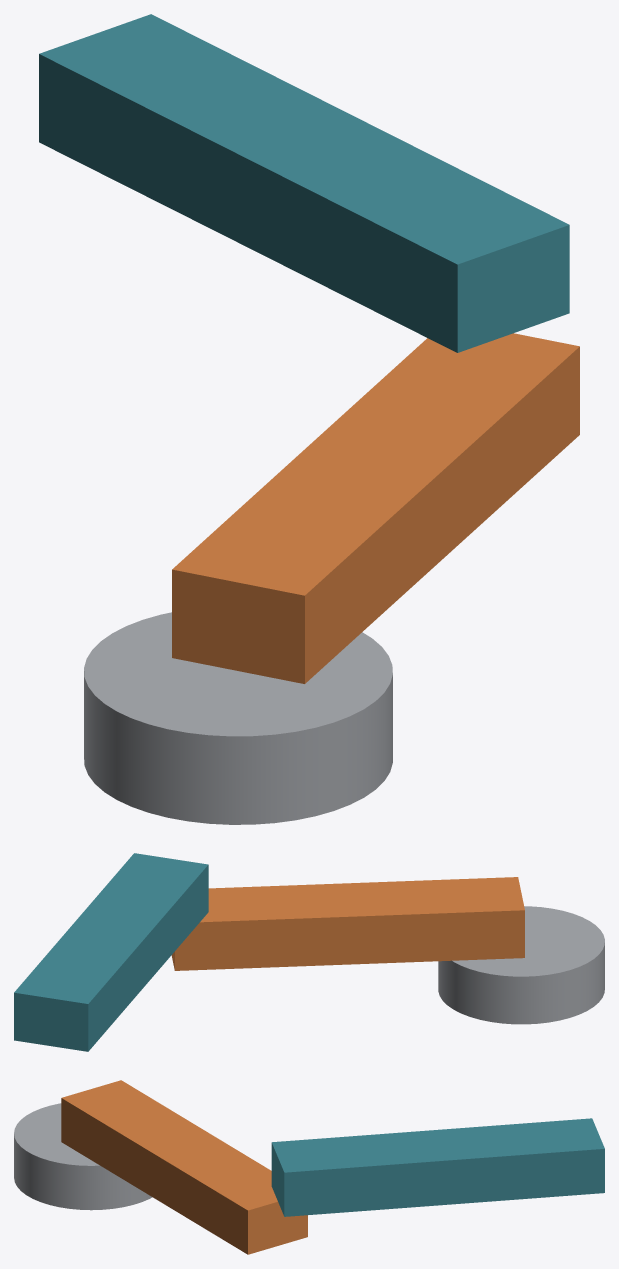
Rendered from asm_chain.glb.
3 renders of one model, top to bottom at view 1: azimuth 30°, elevation 25°; view 2: azimuth 150°, elevation 25°; view 3: azimuth 270°, elevation 25°, orthographic. The views are drawn at different scales.
Visible parts, largest first — view 1: second, first, base; view 2: first, second, base; view 3: second, first, base.
Part boxes in pixels (left/top/right/bottom): second: left=39, top=14, right=569, bottom=352; first: left=172, top=333, right=579, bottom=683; base: left=84, top=612, right=392, bottom=824; first: left=171, top=877, right=524, bottom=970; second: left=14, top=853, right=208, bottom=1051; base: left=438, top=906, right=604, bottom=1024; second: left=271, top=1118, right=604, bottom=1216; first: left=61, top=1080, right=307, bottom=1254; base: left=14, top=1103, right=152, bottom=1210.
Size of the model in its own units: 0.0934 by 0.036 by 0.1452.
